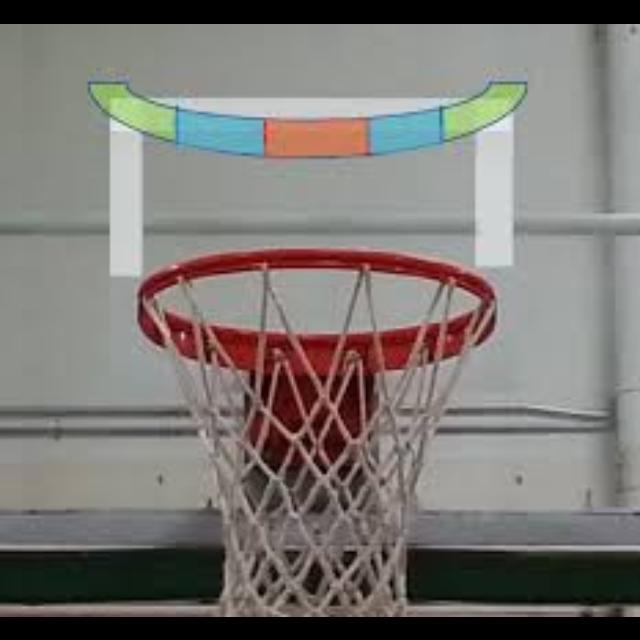rim: (139, 246, 497, 616)
